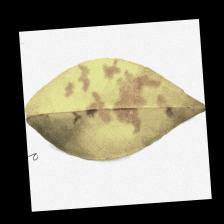black spot: (65, 71, 167, 130)
